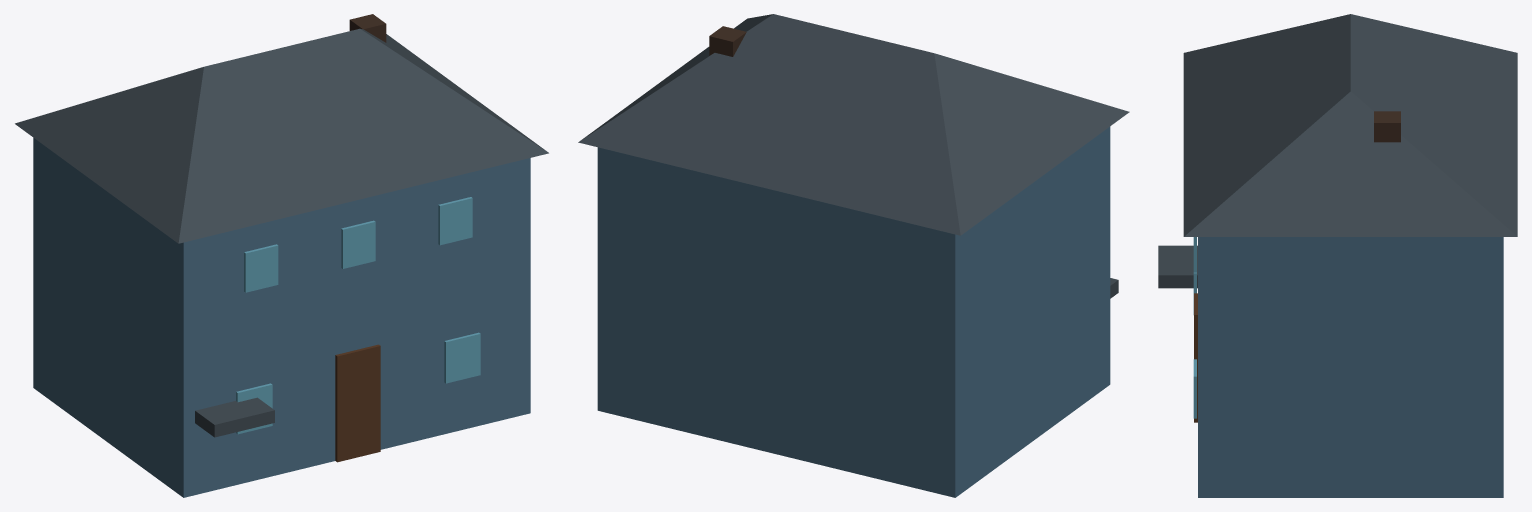
File: house_medium.obj
3 views of the same model, side by side, from view 1: azimuth 30°, elevation 25°; view 2: azimuth 150°, elevation 25°; view 3: azimuth 270°, elevation 25° (orthographic). The views are drawn at different scales.
Visible parts, largest first — view 1: Cube; view 2: Cube; view 3: Cube.
Part boxes in pixels (bbox=[...]): Cube: bbox=[15, 14, 548, 497]; Cube: bbox=[578, 14, 1129, 497]; Cube: bbox=[1158, 14, 1517, 497].
Size of the model in its own units: 7.7 by 7 by 6.35.
